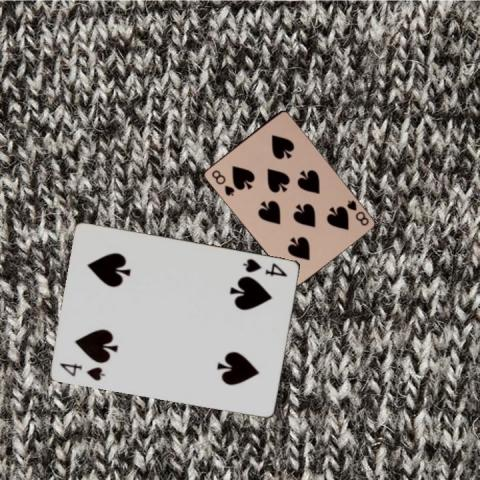4s: (57, 359, 108, 382), (240, 255, 289, 278)
8s: (208, 167, 236, 197), (343, 198, 370, 228)
